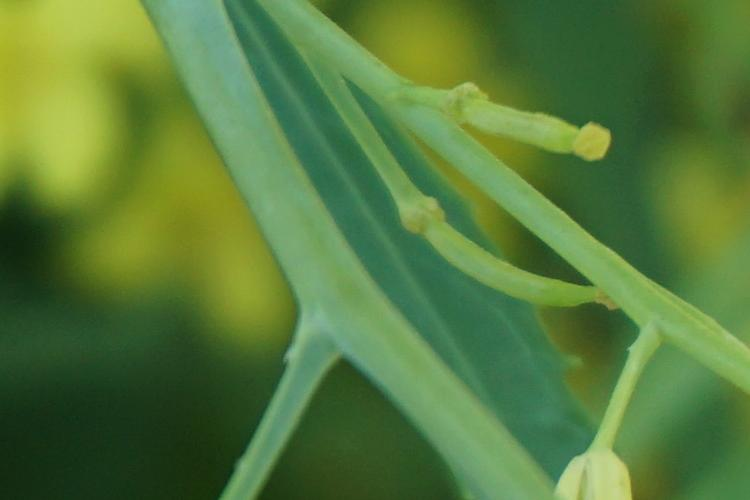pod: (392, 185, 646, 335), (394, 62, 622, 179)
